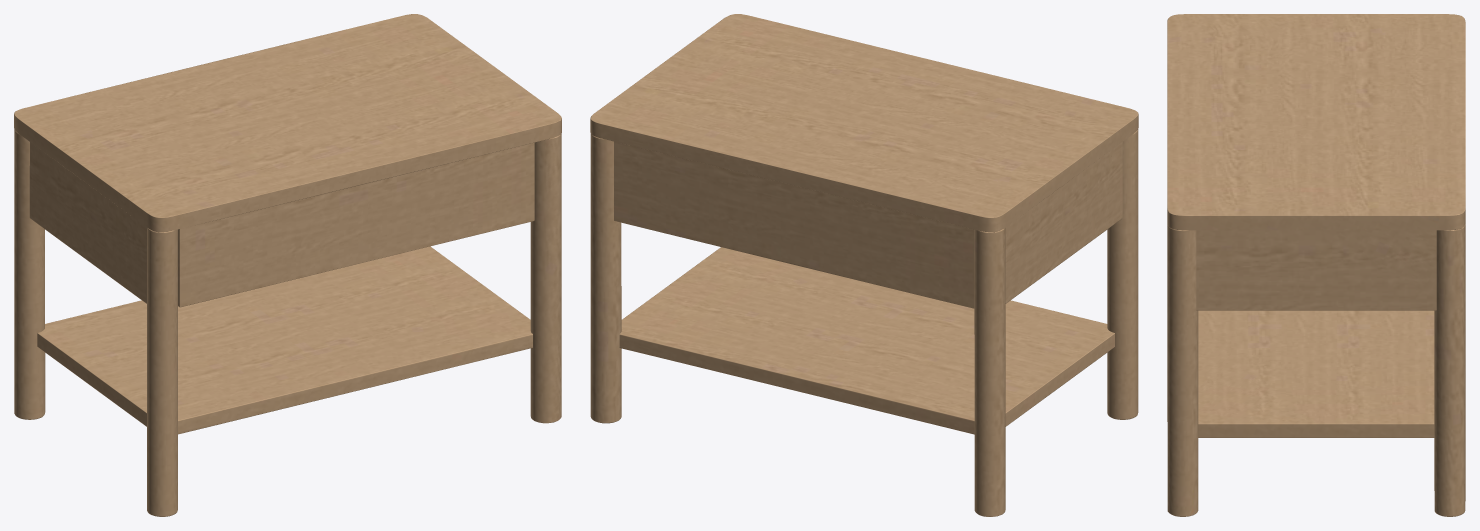
The model's file is sidetable-TONSTAD side table - oak veneer (80528470).glb.
3 views of the same model, side by side, from view 1: azimuth 30°, elevation 25°; view 2: azimuth 150°, elevation 25°; view 3: azimuth 270°, elevation 25° (orthographic).
Parts seen in each view (by area): view 1: Mesh_0; view 2: Mesh_0; view 3: Mesh_0.
Boxes of the visible parts, x1,y1,x2,y2 form: Mesh_0: [14, 14, 561, 516]; Mesh_0: [590, 14, 1138, 516]; Mesh_0: [1167, 14, 1465, 516].
Size of the model in its own units: 0.64 by 0.45 by 0.4002.
Materials: 1 (1 with a texture image).
